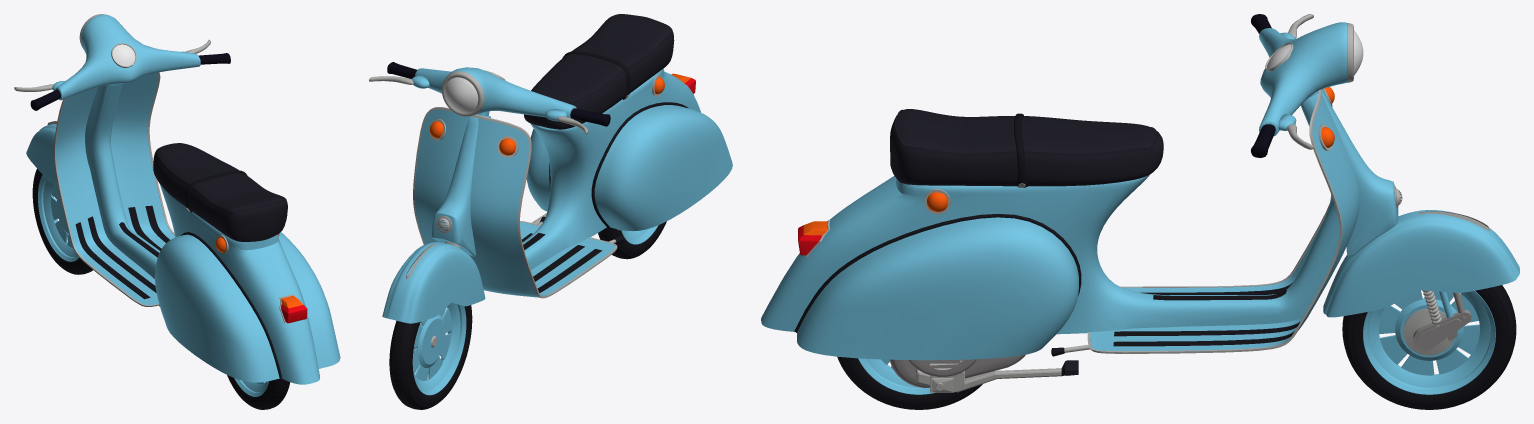
File: skuter.glb
The picture shows the model from 3 angles, left to right: view 1: azimuth 30°, elevation 25°; view 2: azimuth 150°, elevation 25°; view 3: azimuth 270°, elevation 25°; orthographic projection. The views are drawn at different scales.
Parts seen in each view (by area): view 1: Object_5; view 2: Object_5; view 3: Object_5.
Boxes of the visible parts, x1,y1,x2,y2 form: Object_5: [14, 14, 340, 409]; Object_5: [369, 14, 732, 409]; Object_5: [761, 14, 1519, 409].
Bounding box in the file's own units: 0.7528 × 1.02 × 1.83.
2 materials, 2 textured.
